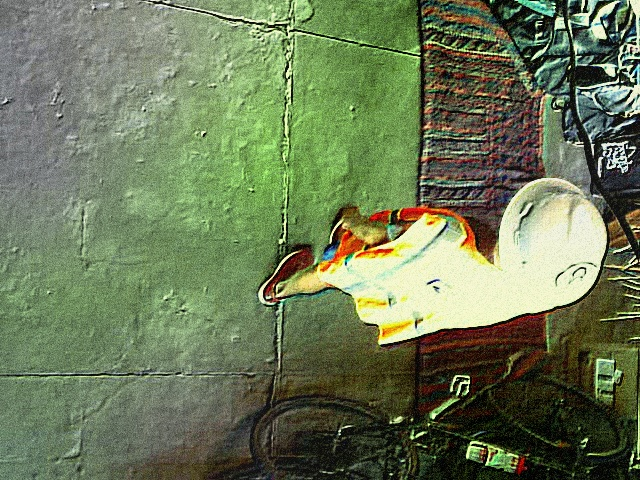eight: (556, 262, 598, 294)
